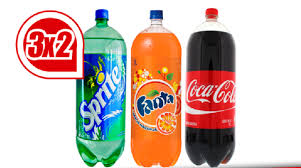fanta: (131, 11, 180, 163)
